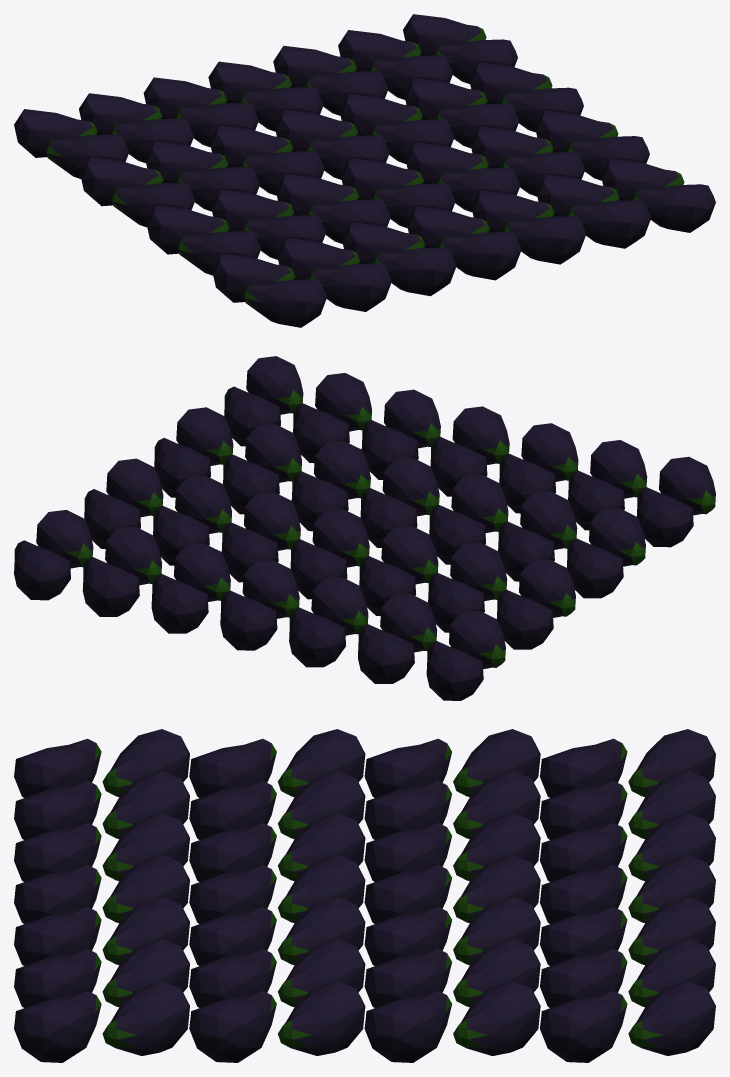
File: FBX_Eggplant.fbx
3 views of the same model, one above another, from view 1: azimuth 30°, elevation 25°; view 2: azimuth 150°, elevation 25°; view 3: azimuth 270°, elevation 25° (orthographic). The views are drawn at different scales.
Visible parts, largest first — view 1: M_Eggplant; view 2: M_Eggplant; view 3: M_Eggplant.
Boxes of the visible parts, bbox=[...] form: M_Eggplant: bbox=[14, 14, 715, 327]; M_Eggplant: bbox=[14, 356, 715, 700]; M_Eggplant: bbox=[14, 729, 715, 1062].
Size of the model in its own units: 0.7538 by 0.0617 by 0.7553.
